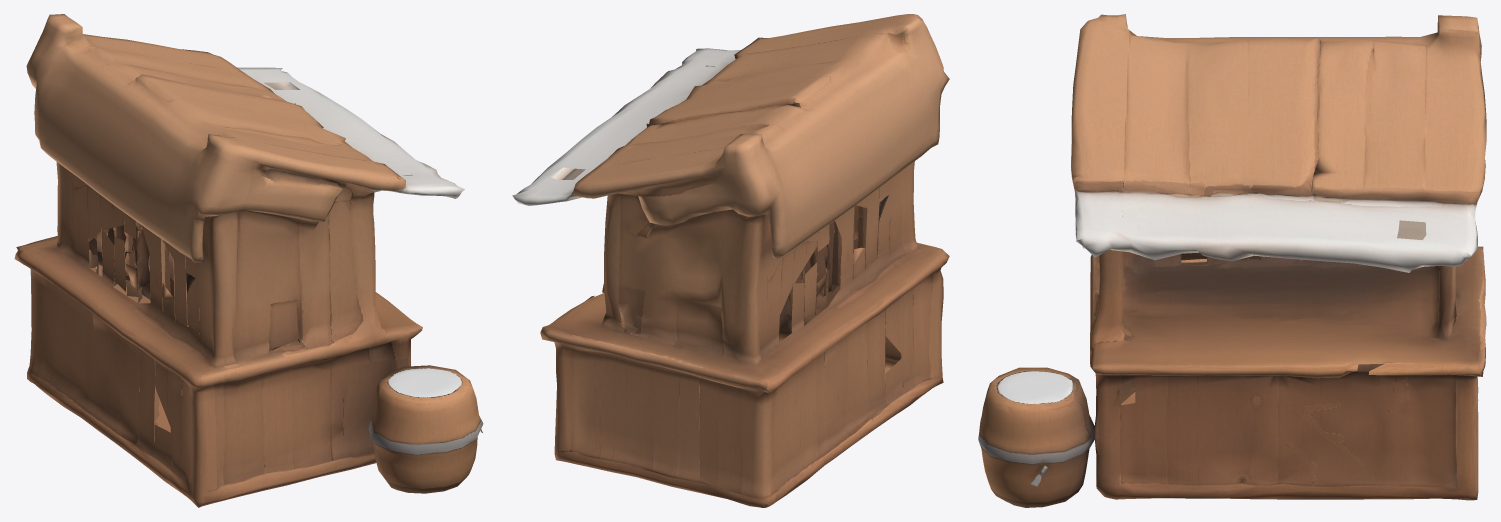
The model's file is contact-booth.glb.
3 renders of one model, left to right at view 1: azimuth 30°, elevation 25°; view 2: azimuth 150°, elevation 25°; view 3: azimuth 270°, elevation 25°, orthographic. The views are drawn at different scales.
Parts seen in each view (by area): view 1: tripo_node_e776af2c-47b9-49b8-8da2-5608a1eb6d85; view 2: tripo_node_e776af2c-47b9-49b8-8da2-5608a1eb6d85; view 3: tripo_node_e776af2c-47b9-49b8-8da2-5608a1eb6d85.
Part boxes in pixels (x1=…): tripo_node_e776af2c-47b9-49b8-8da2-5608a1eb6d85: x1=14, y1=14, x2=483, y2=507; tripo_node_e776af2c-47b9-49b8-8da2-5608a1eb6d85: x1=512, y1=14, x2=949, y2=507; tripo_node_e776af2c-47b9-49b8-8da2-5608a1eb6d85: x1=978, y1=14, x2=1486, y2=507.
Bounding box in the file's own units: 0.6435 × 0.8345 × 0.9932.
Materials: 1 (1 with a texture image).
